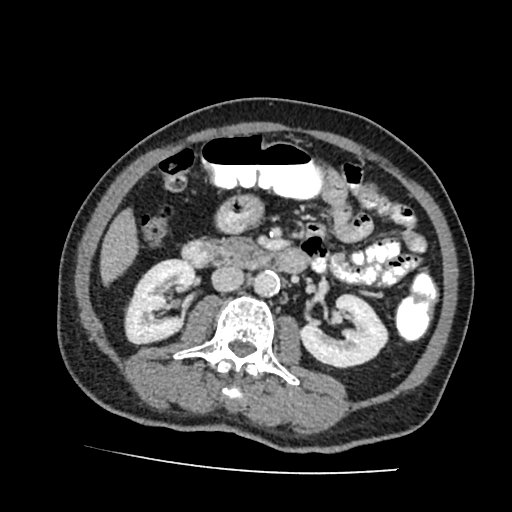aorta: (253, 281, 270, 298)
